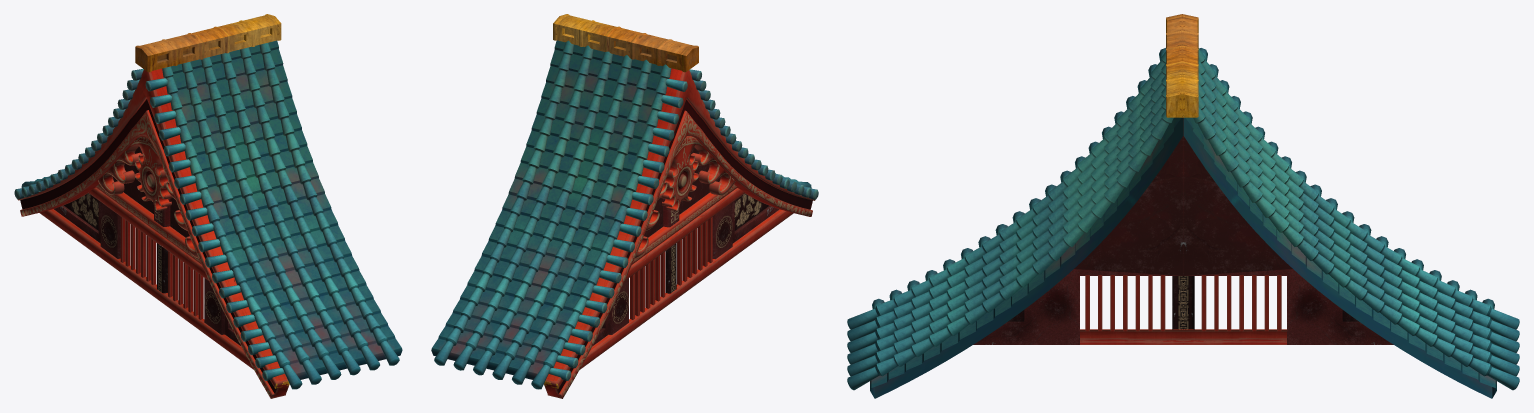
File: SM_Temple_BigRoof.glb
3 views of the same model, side by side, from view 1: azimuth 30°, elevation 25°; view 2: azimuth 150°, elevation 25°; view 3: azimuth 270°, elevation 25° (orthographic). The views are drawn at different scales.
Visible parts, largest first — view 1: SM_Temple_BigRoof_LOD0; view 2: SM_Temple_BigRoof_LOD0; view 3: SM_Temple_BigRoof_LOD0.
Boxes of the visible parts, box(x1,y1,x2,y2) form: SM_Temple_BigRoof_LOD0: box(14, 14, 402, 398); SM_Temple_BigRoof_LOD0: box(431, 14, 818, 398); SM_Temple_BigRoof_LOD0: box(847, 14, 1519, 398).
Bounding box in the file's own units: 3.49 × 6.47 × 12.28.
3 materials, 3 textured.
